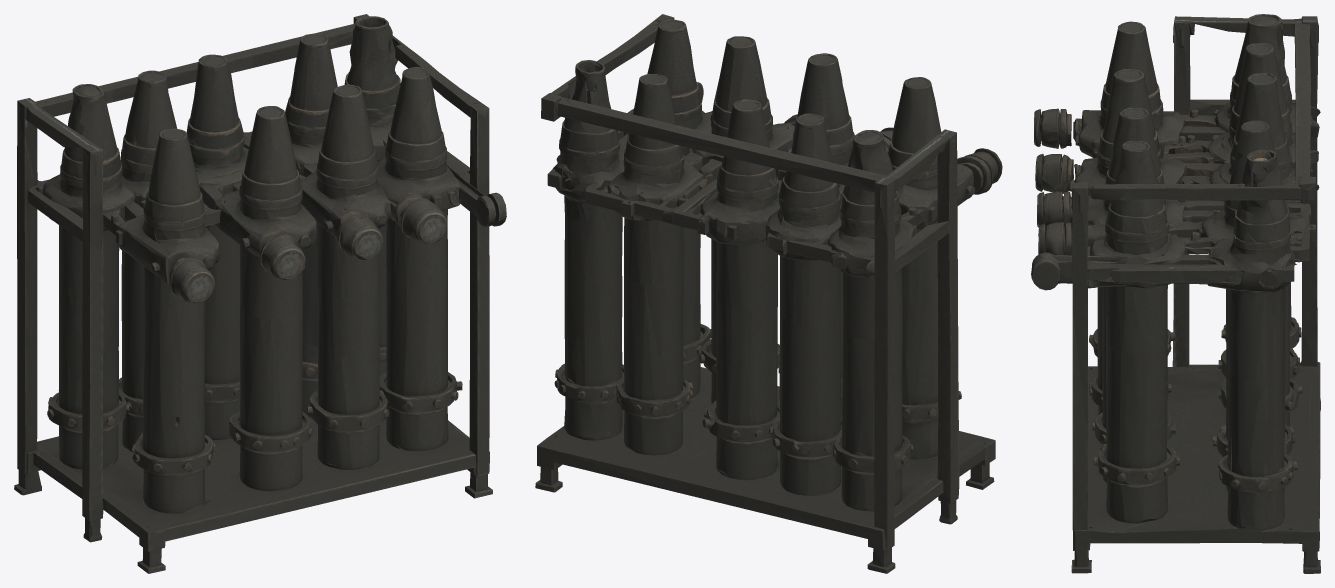
File: shells.glb
3 renders of one model, left to right at view 1: azimuth 30°, elevation 25°; view 2: azimuth 150°, elevation 25°; view 3: azimuth 270°, elevation 25°, orthographic.
Size of the model in its own units: 1.77 by 1.9 by 1.23.
1 material, 1 textured.
